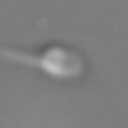normal: (1, 40, 40, 72)
